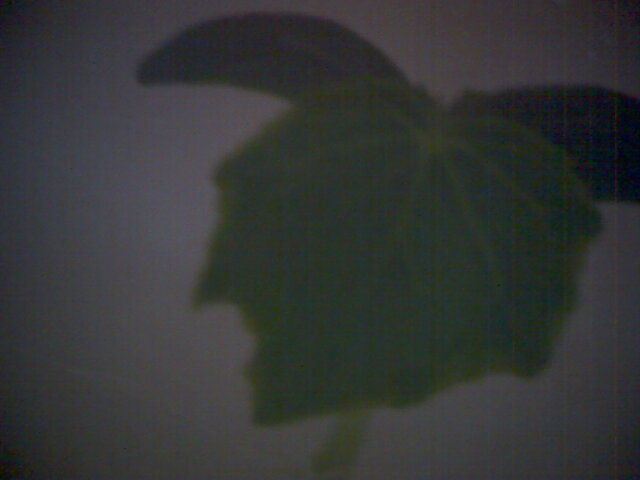lil_plant: (71, 6, 614, 459)
